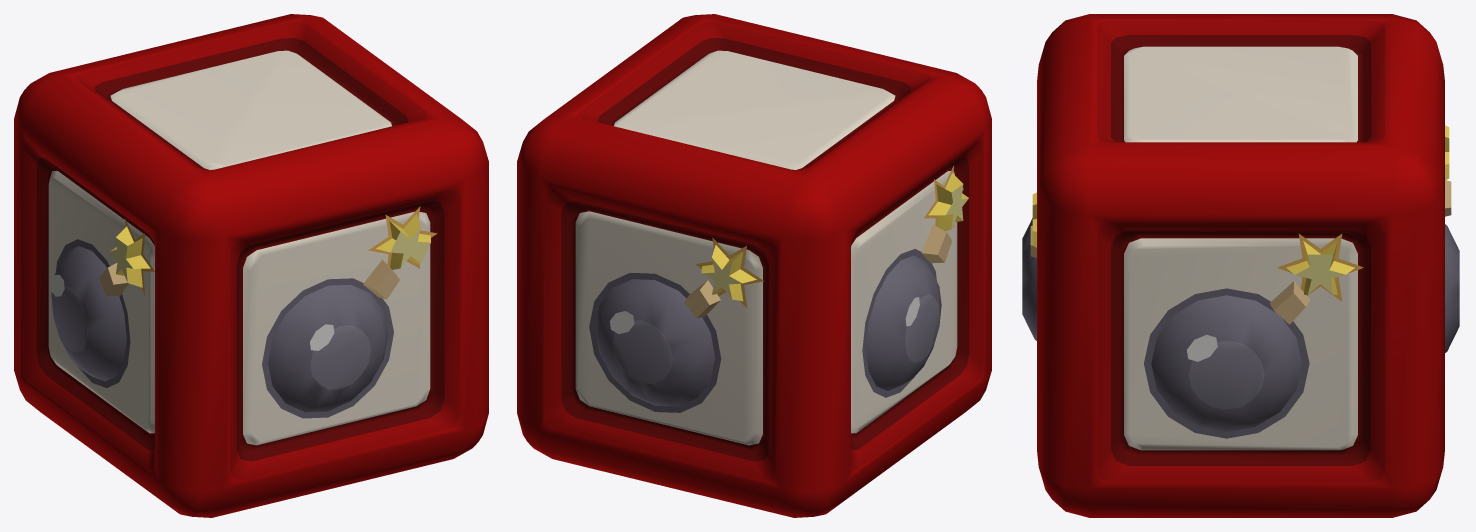
The model's file is tnt.glb.
The picture shows the model from 3 angles, left to right: view 1: azimuth 30°, elevation 25°; view 2: azimuth 150°, elevation 25°; view 3: azimuth 270°, elevation 25°; orthographic projection. The views are drawn at different scales.
Visible parts, largest first — view 1: tnt; view 2: tnt; view 3: tnt.
Boxes of the visible parts, x1,y1,x2,y2 form: tnt: [14, 14, 488, 517]; tnt: [517, 14, 991, 517]; tnt: [1022, 14, 1459, 517].
Size of the model in its own units: 1.68 by 1.55 by 1.68.
